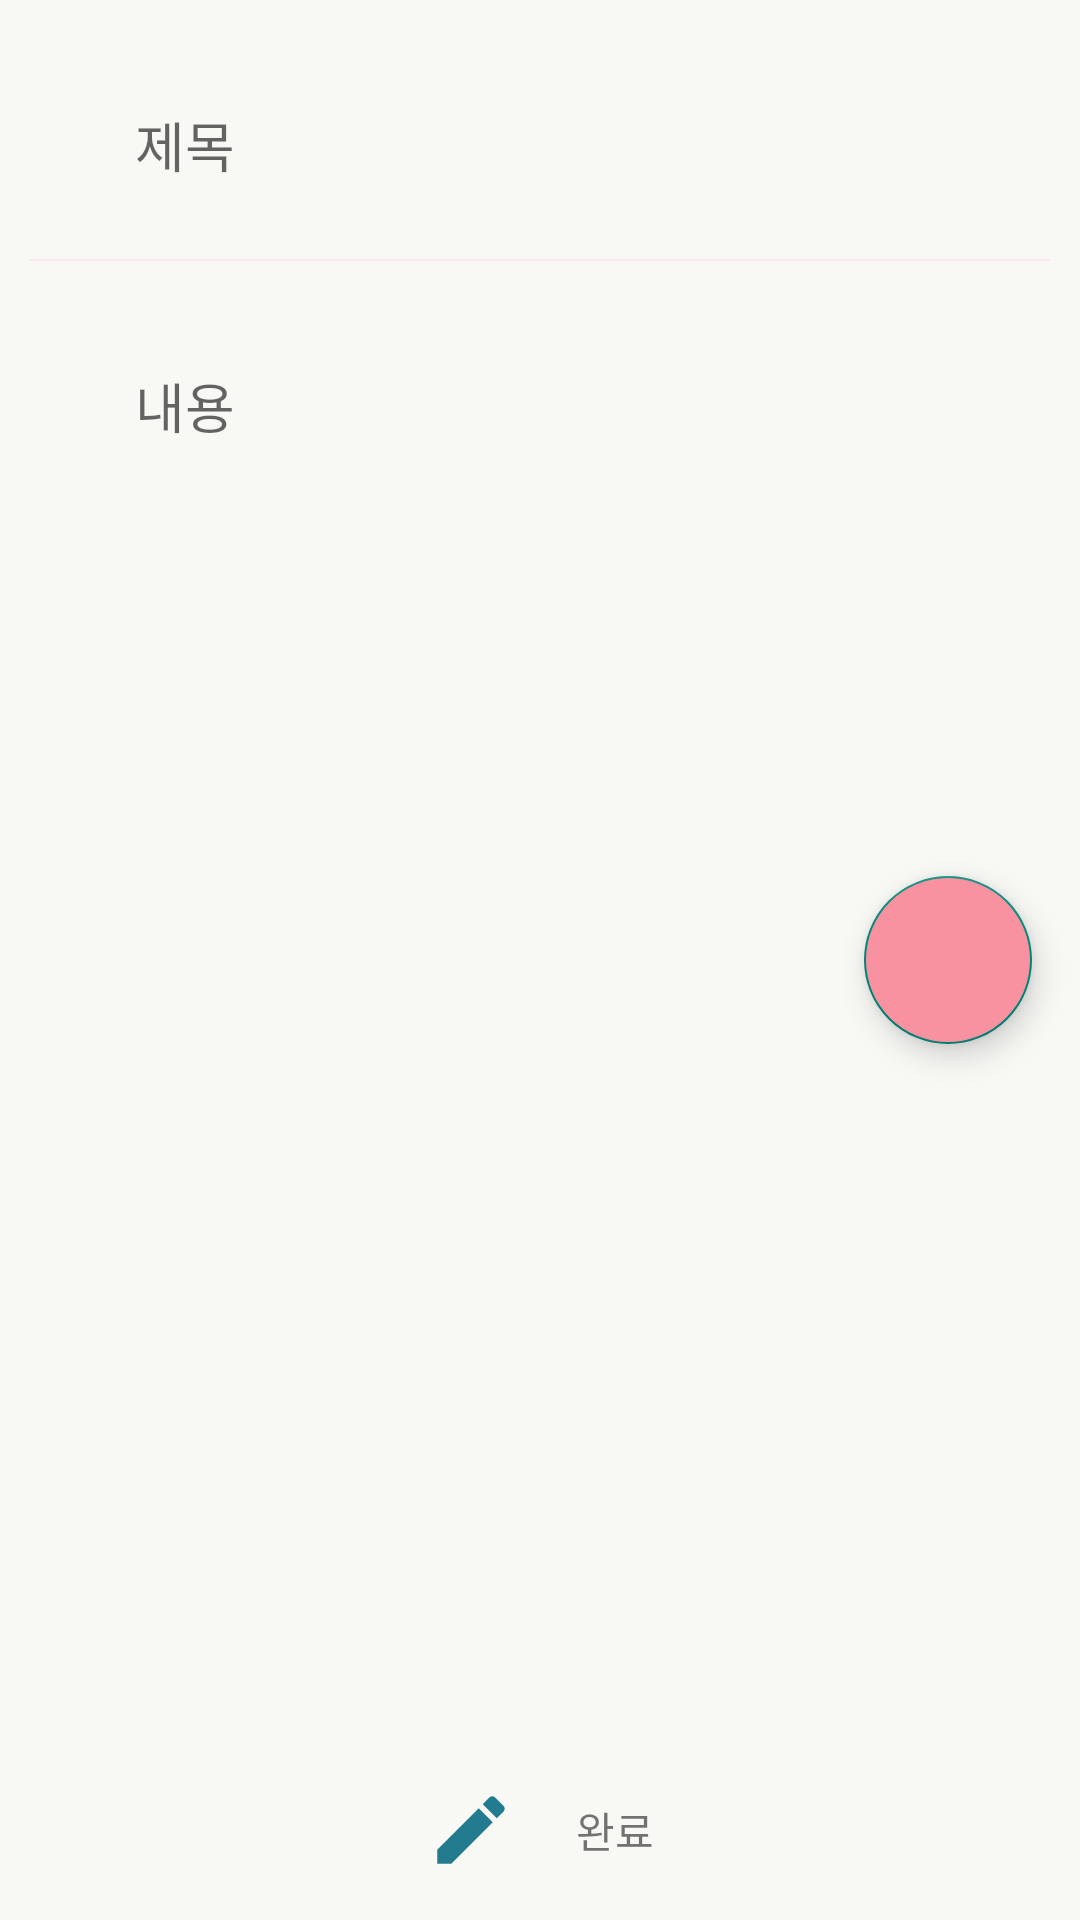

Where to tap for icons on this 1080w x 1920h app screen, as (x,y):
write: (471,1830)
